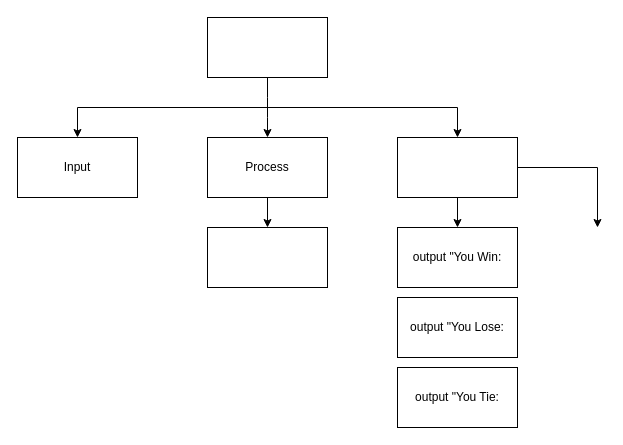
Image size: 623x445. Some labels were removed from this diagram. The centre of each missing label's shape, as x and y in pixels:
"check if display % 5 == 0" goes at [267,257].
"game" goes at [267,47].
"Output" goes at [457,167].
